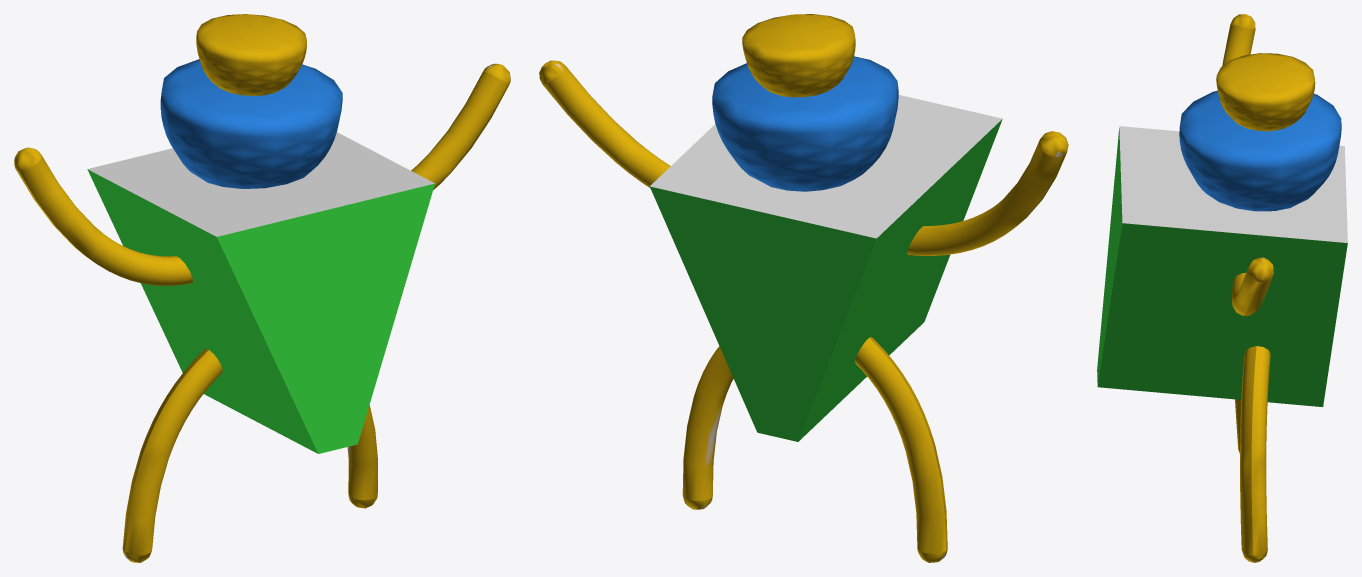
Rendered from guest6.fbx.
3 views of the same model, side by side, from view 1: azimuth 30°, elevation 25°; view 2: azimuth 150°, elevation 25°; view 3: azimuth 270°, elevation 25° (orthographic). The views are drawn at different scales.
Parts seen in each view (by area): view 1: guest6; view 2: guest6; view 3: guest6.
Part boxes in pixels (x1,y1,x2,y2): guest6: (14,14,510,562); guest6: (539,14,1068,562); guest6: (1097,14,1347,562).
Size of the model in its own units: 184 by 174 by 88.85.
